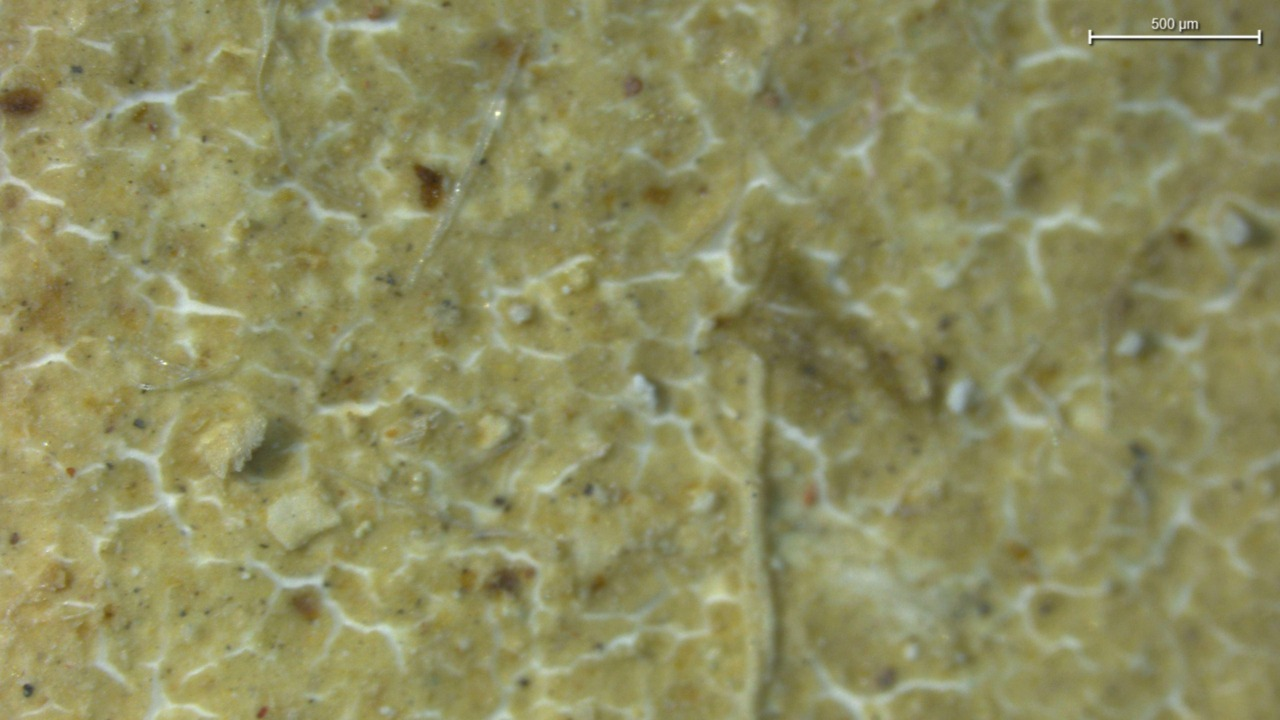microplastic_fragment: (190, 414, 266, 482), (264, 491, 342, 553)
